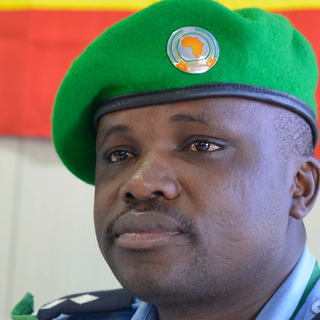eye: (175, 130, 237, 164), (95, 140, 140, 169)
